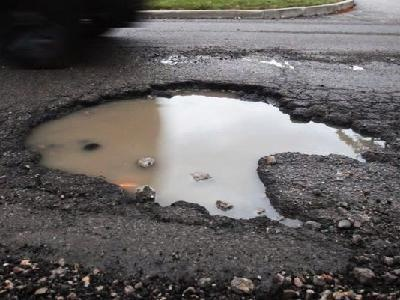pothole: (16, 74, 393, 231)
